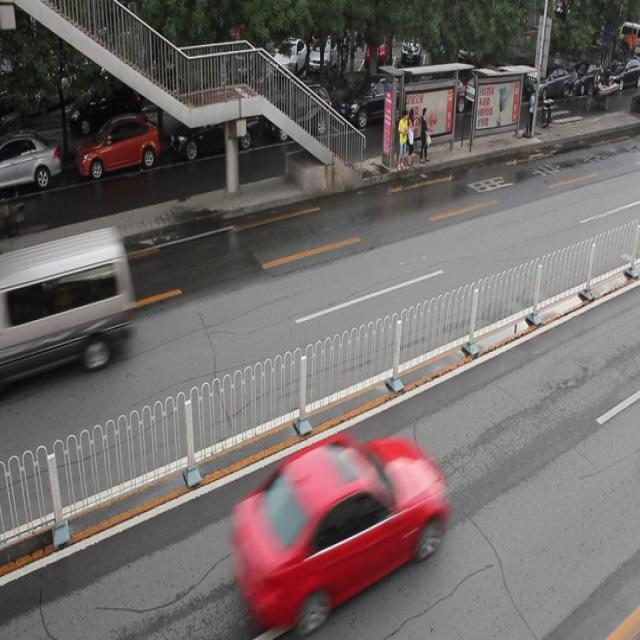car: (235, 435, 448, 625), (77, 114, 161, 182), (171, 96, 259, 160), (339, 72, 412, 131), (267, 83, 332, 142), (0, 136, 62, 194)
truck: (1, 224, 133, 378)
